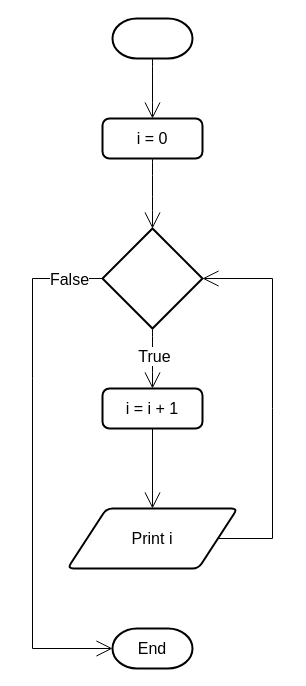
This 306x686 diagram has some shape labels left out. Each missing label, with the centre of its shape:
Begin: (x=152, y=38)
i < 10: (x=152, y=278)
